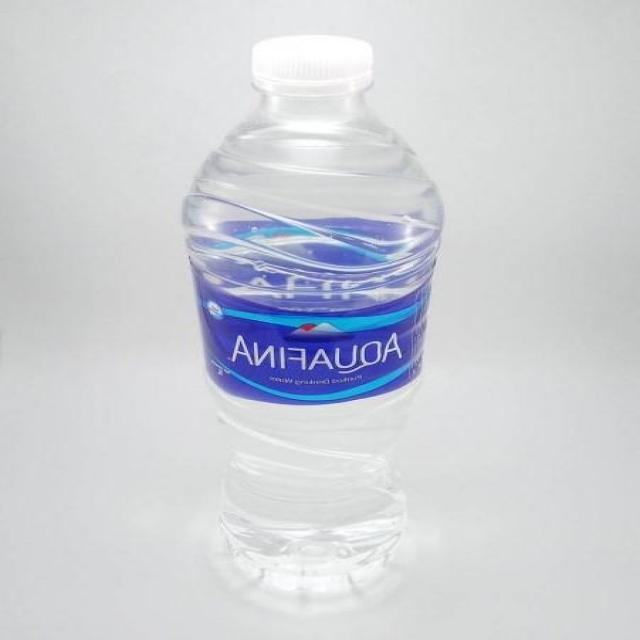plastic: (182, 36, 443, 611)
